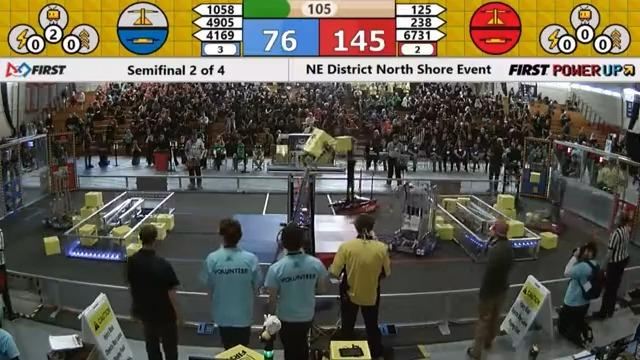robot: (387, 178, 442, 258), (333, 134, 382, 216), (525, 170, 571, 236), (41, 166, 80, 230), (495, 159, 527, 222)
